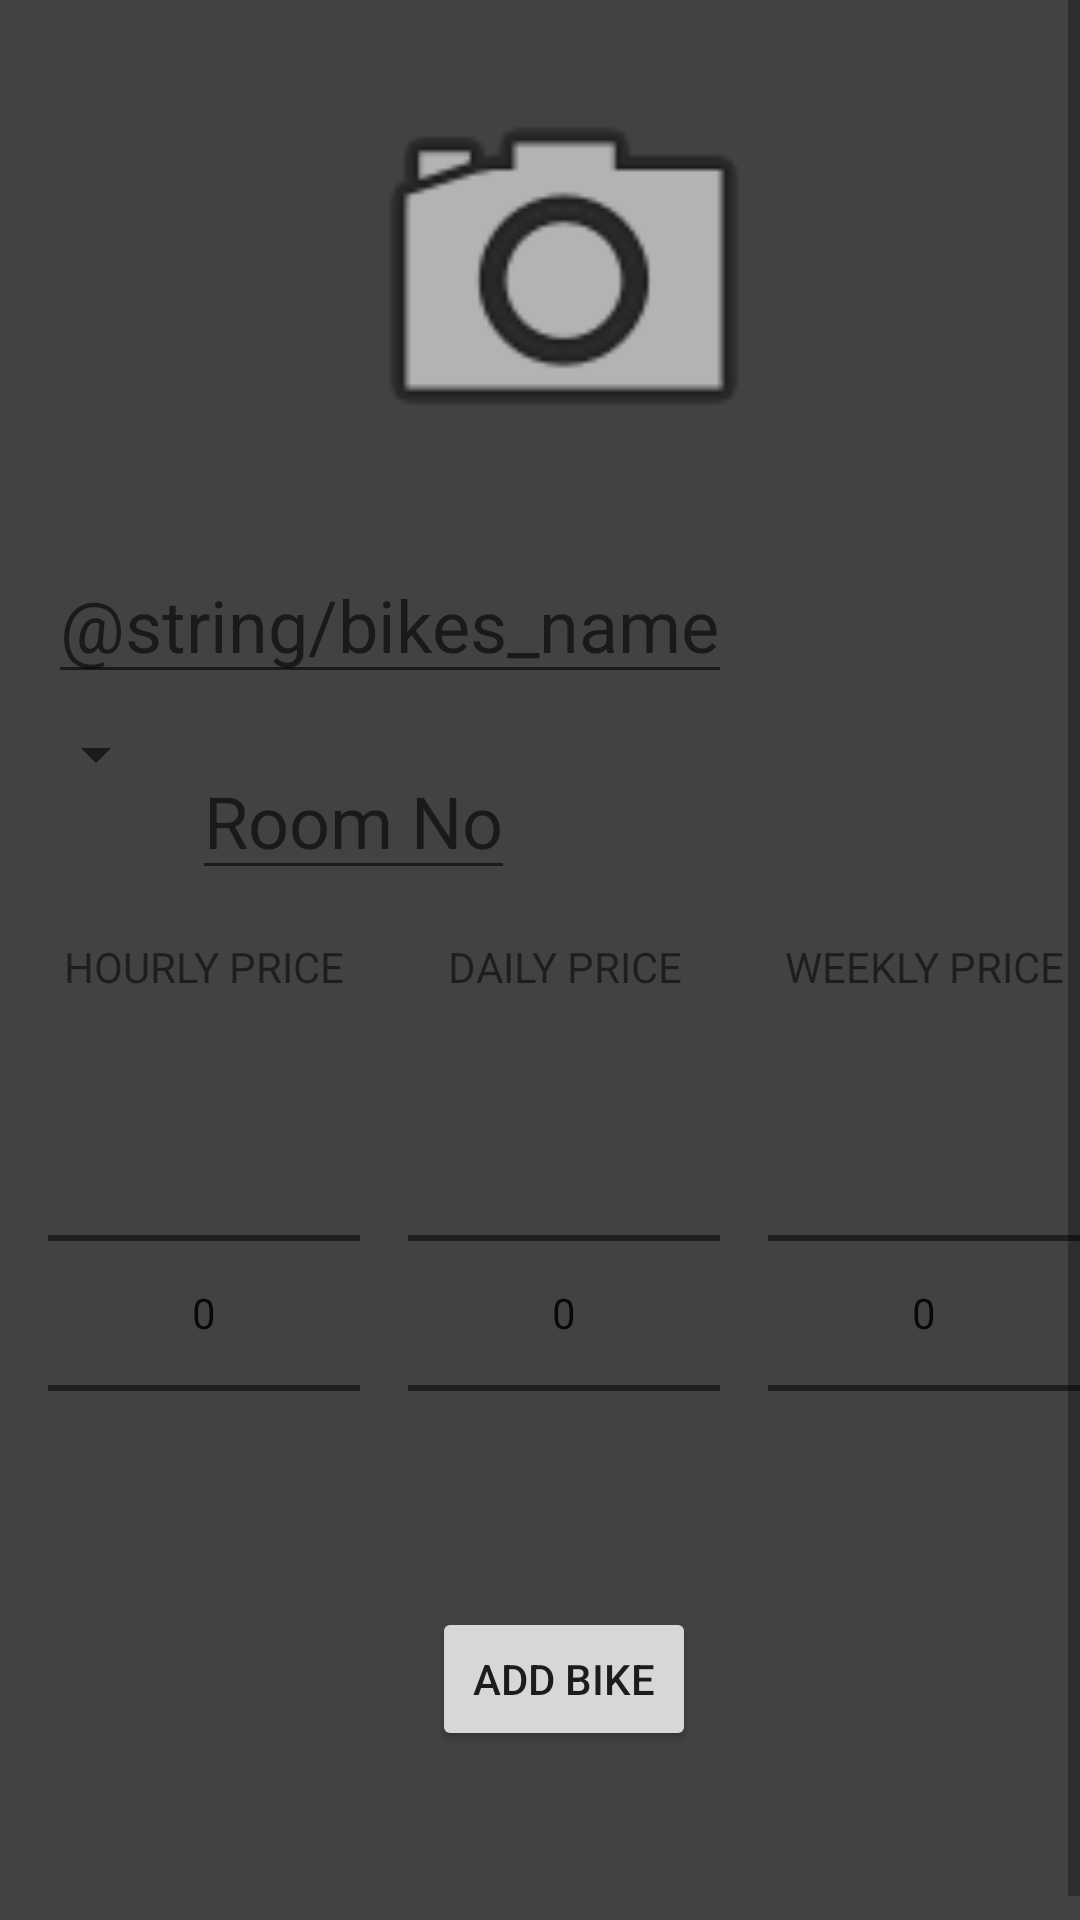

Where to tap for icons on this 1080×1920 app screen, as point (x, y):
camera: point (563, 266)
